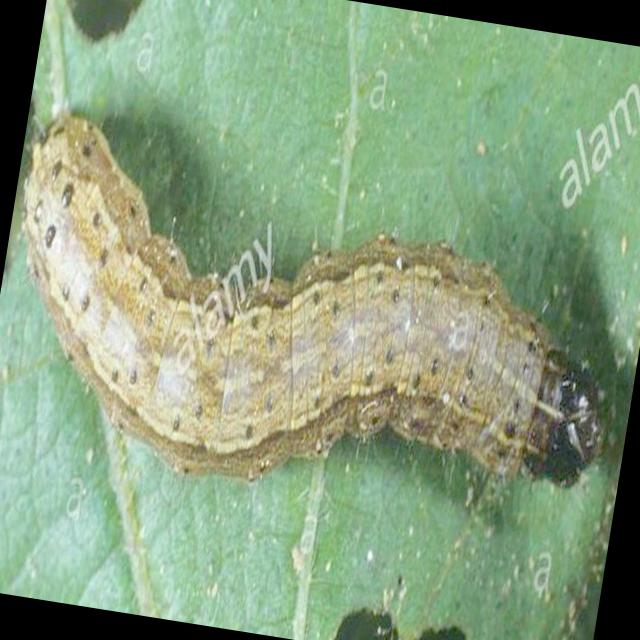pest: (1, 122, 640, 521)
